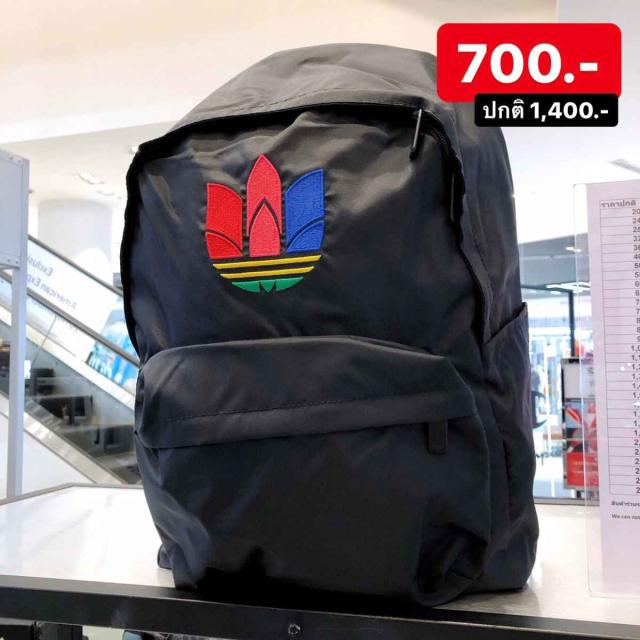handbag: (123, 41, 552, 615)
